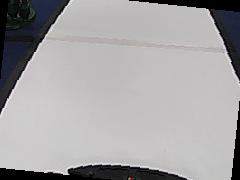corn: (5, 0, 33, 25)
